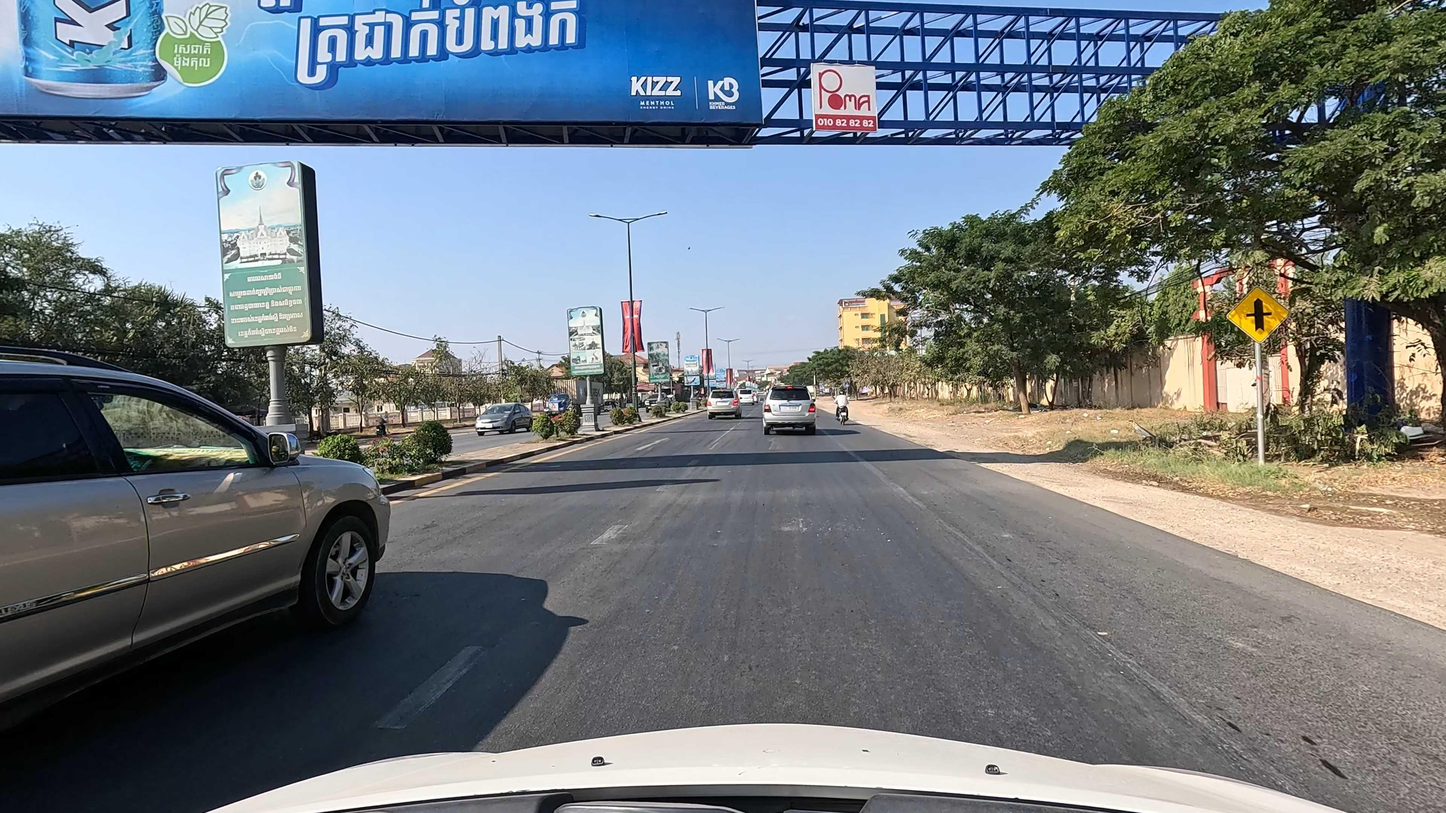priority_junction: (1226, 285, 1293, 343)
